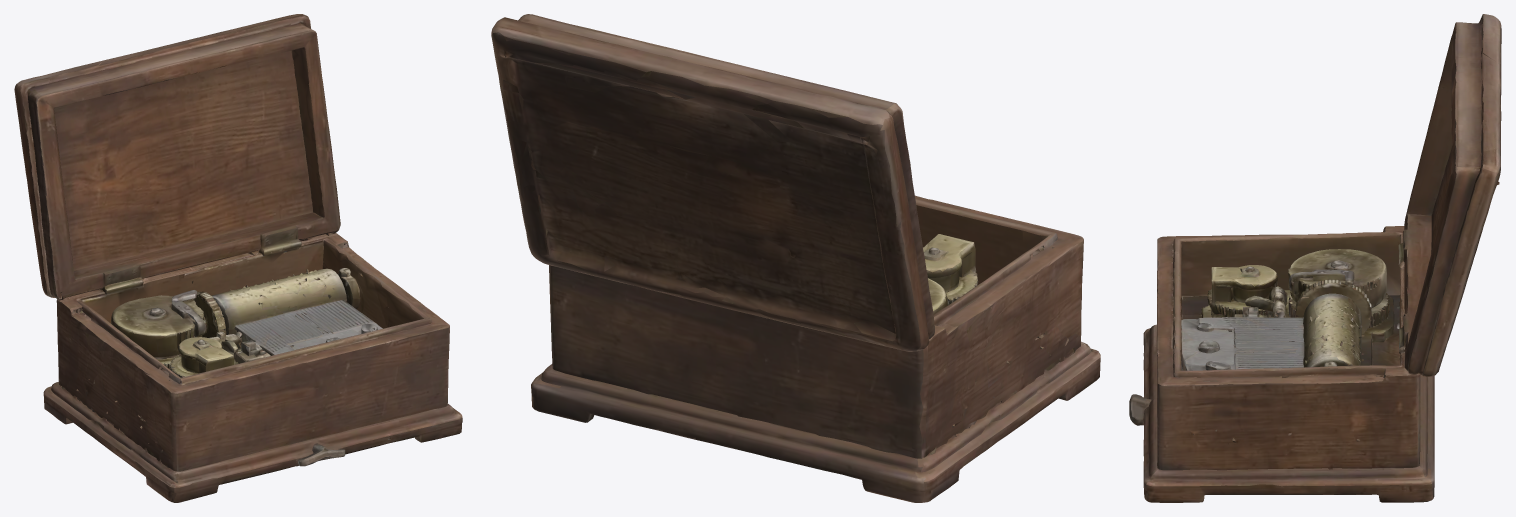
The model's file is music-box.glb.
3 views of the same model, side by side, from view 1: azimuth 30°, elevation 25°; view 2: azimuth 150°, elevation 25°; view 3: azimuth 270°, elevation 25° (orthographic). The views are drawn at different scales.
Visible parts, largest first — view 1: geometry_0; view 2: geometry_0; view 3: geometry_0.
Boxes of the visible parts, x1,y1,x2,y2 form: geometry_0: (14, 14, 462, 502); geometry_0: (491, 14, 1100, 502); geometry_0: (1129, 14, 1501, 502).
Size of the model in its own units: 0.28 by 0.2792 by 0.2798.
1 material, 1 textured.
